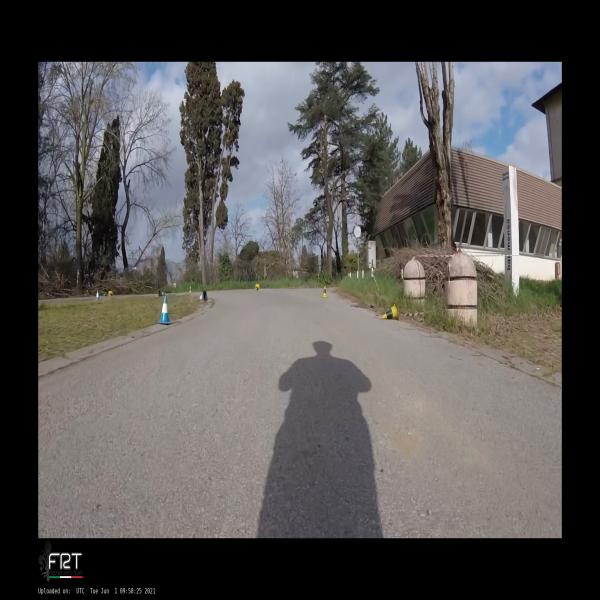blue_cone: (158, 296, 172, 324), (199, 291, 208, 300), (158, 290, 165, 296), (96, 290, 99, 300)
yellow_cone: (382, 302, 399, 321), (322, 286, 328, 298), (255, 284, 260, 290), (108, 291, 113, 296), (189, 286, 191, 292)
